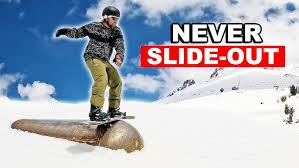snowboard: (78, 114, 134, 129)
